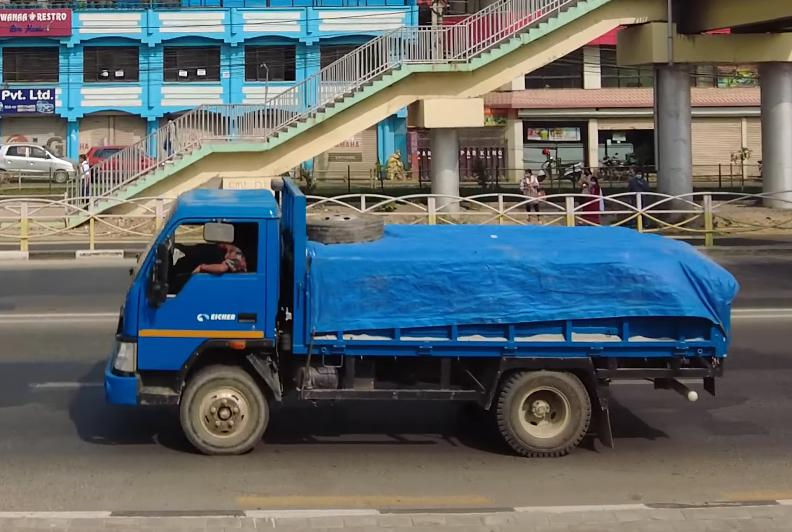mini_truck: (101, 159, 737, 465)
